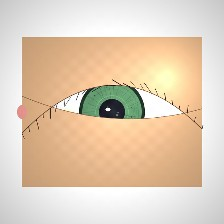pinguecula_lesion: (51, 101, 83, 126)
